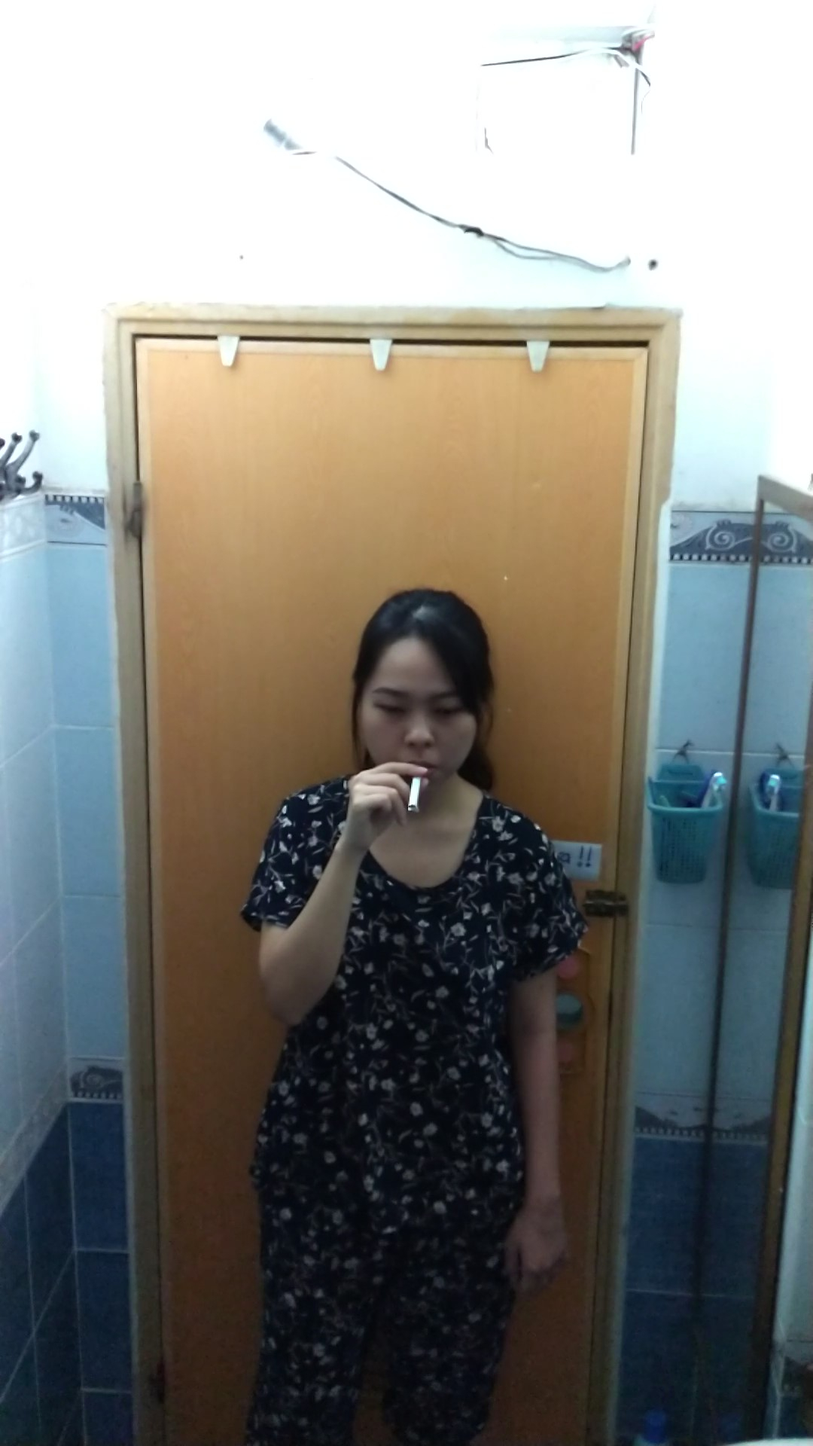cigarette: (405, 776, 425, 815)
person: (226, 578, 595, 1446)
